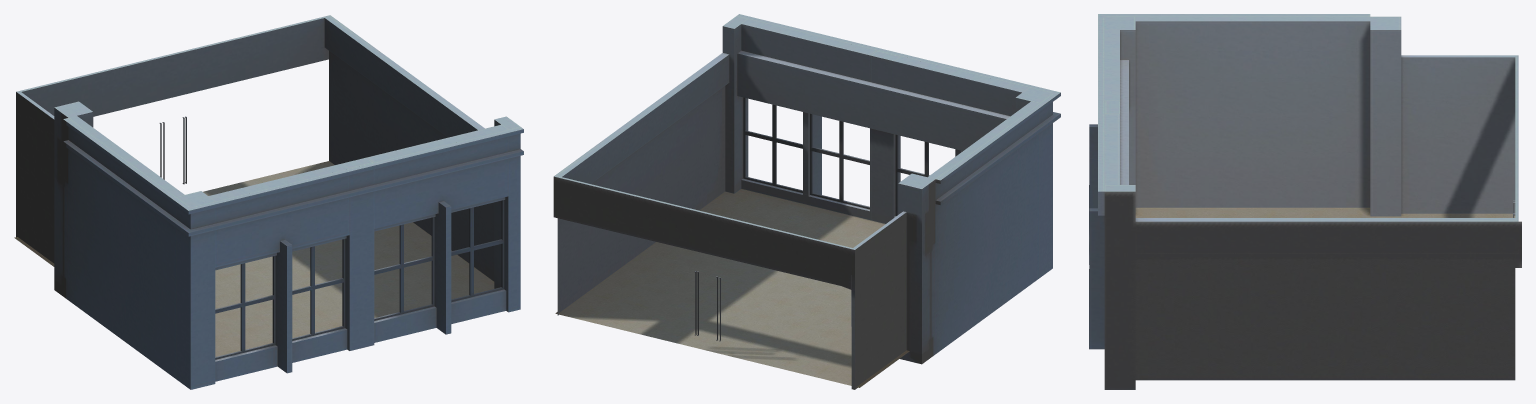
The picture shows the model from 3 angles, left to right: view 1: azimuth 30°, elevation 25°; view 2: azimuth 150°, elevation 25°; view 3: azimuth 270°, elevation 25°; orthographic projection. The views are drawn at different scales.
Visible parts, largest first — view 1: hc_2floor_room027 (1)_0; view 2: hc_2floor_room027 (1)_0; view 3: hc_2floor_room027 (1)_0.
Part boxes in pixels (<box>): hc_2floor_room027 (1)_0: <box>14,15,523,389</box>; hc_2floor_room027 (1)_0: <box>553,14,1060,389</box>; hc_2floor_room027 (1)_0: <box>1089,14,1521,389</box>.
Size of the model in its own units: 0.95 by 0.4943 by 0.9775.
Materials: 1 (1 with a texture image).
